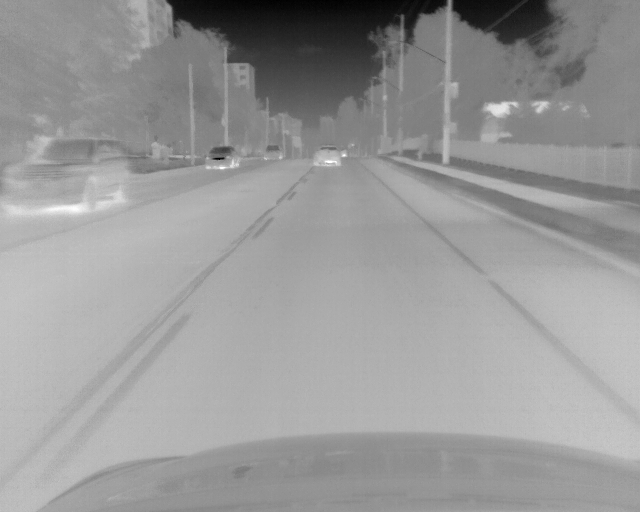car: (1, 137, 132, 215), (203, 146, 241, 171), (313, 144, 341, 168), (263, 144, 283, 160)
